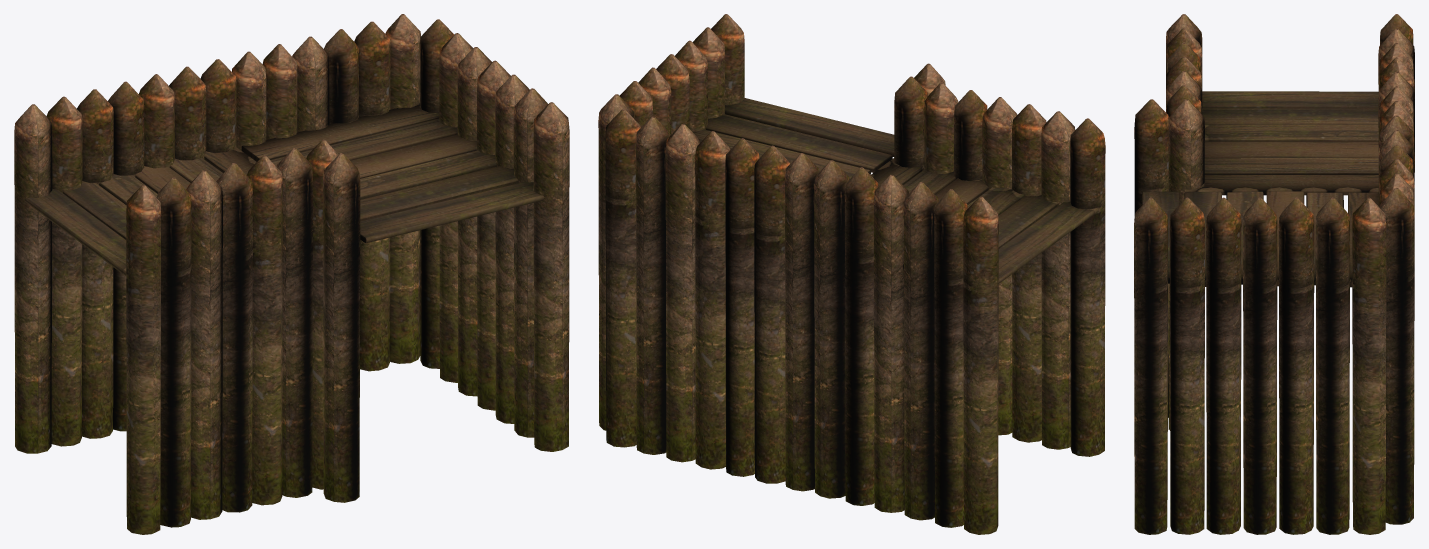
File: Runway (up) curve (right) v2.FBX
3 renders of one model, left to right at view 1: azimuth 30°, elevation 25°; view 2: azimuth 150°, elevation 25°; view 3: azimuth 270°, elevation 25°, orthographic. The views are drawn at different scales.
Parts seen in each view (by area): view 1: Runway (up) curve (right); view 2: Runway (up) curve (right); view 3: Runway (up) curve (right).
Part boxes in pixels (<box>): Runway (up) curve (right): <box>14,14,569,534</box>; Runway (up) curve (right): <box>598,14,1105,534</box>; Runway (up) curve (right): <box>1134,14,1414,534</box>.
Bounding box in the file's own units: 175 × 135 × 104.
